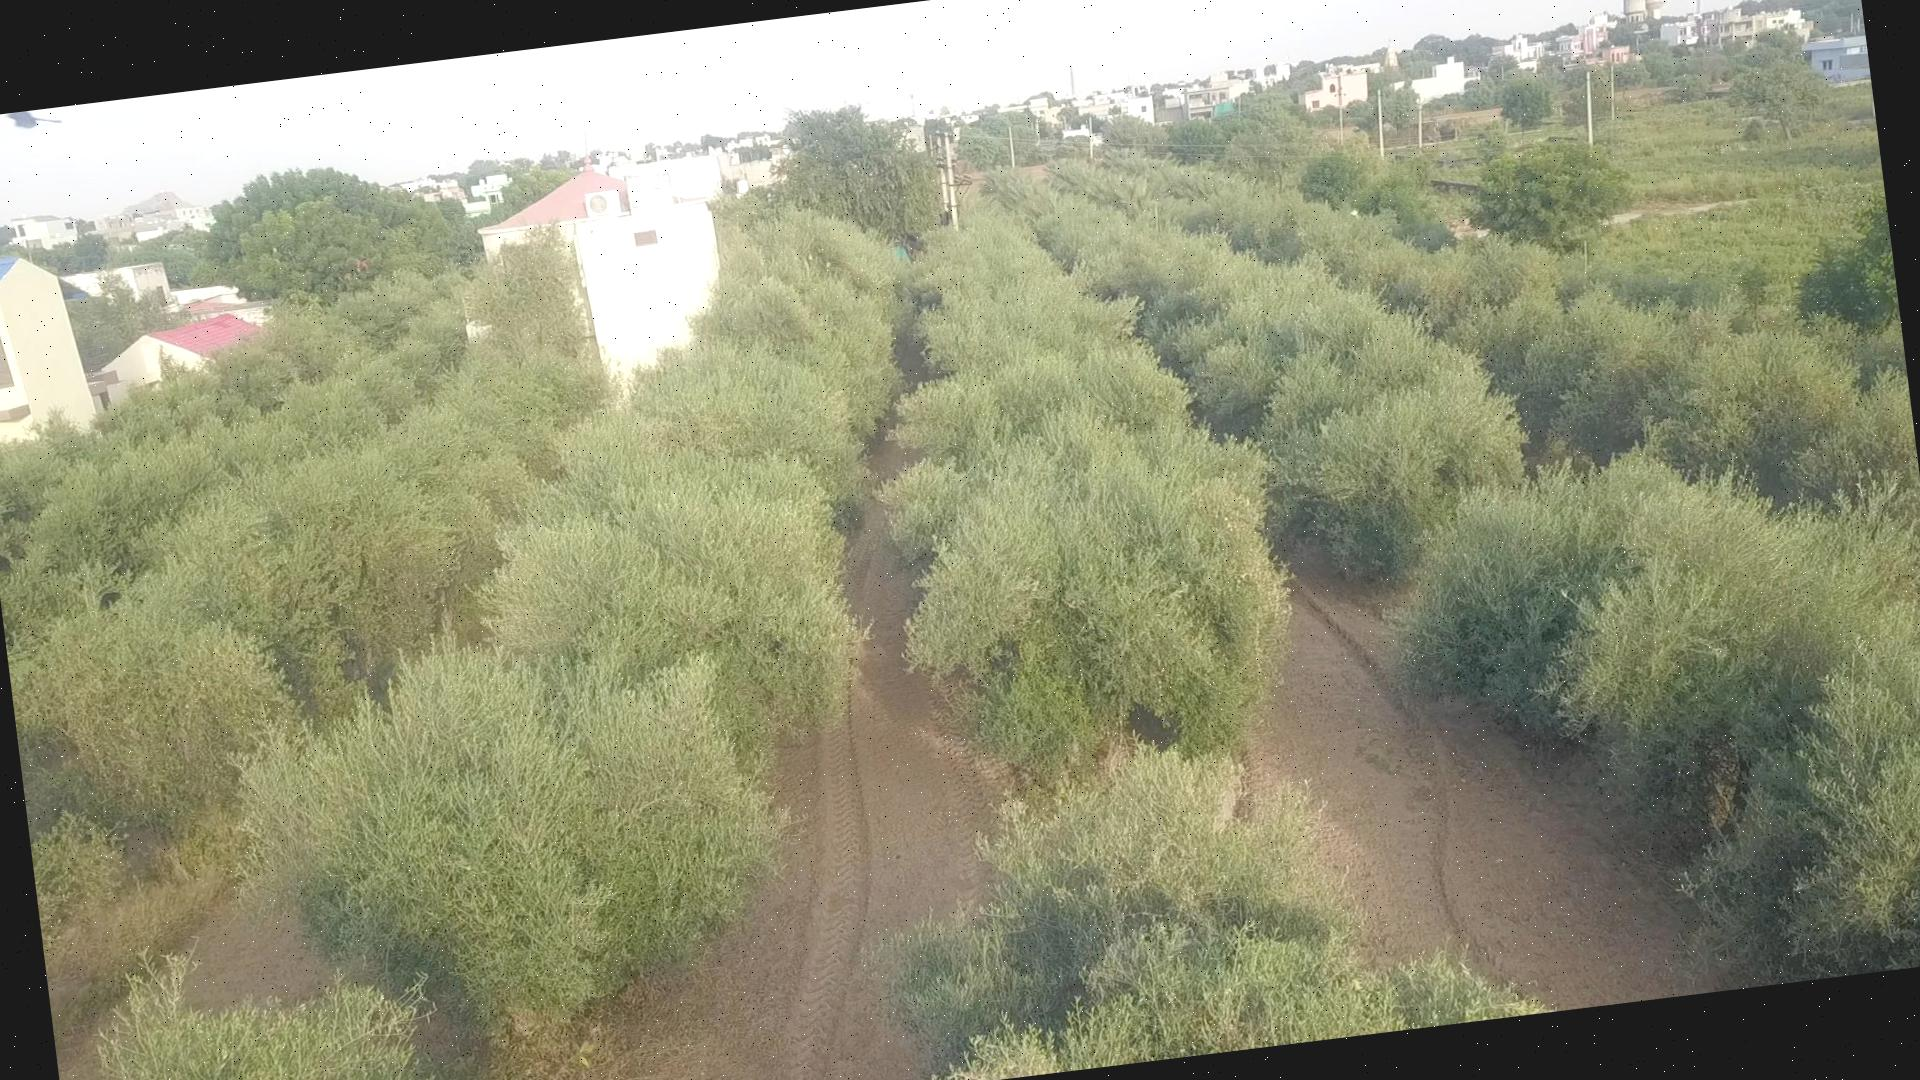canopy: (245, 208, 898, 1029), (880, 212, 1400, 1080), (0, 236, 609, 847), (1395, 454, 1920, 978), (1154, 164, 1920, 504), (1033, 196, 1522, 578)
road: (624, 504, 1005, 1080), (1244, 575, 1718, 1007)
